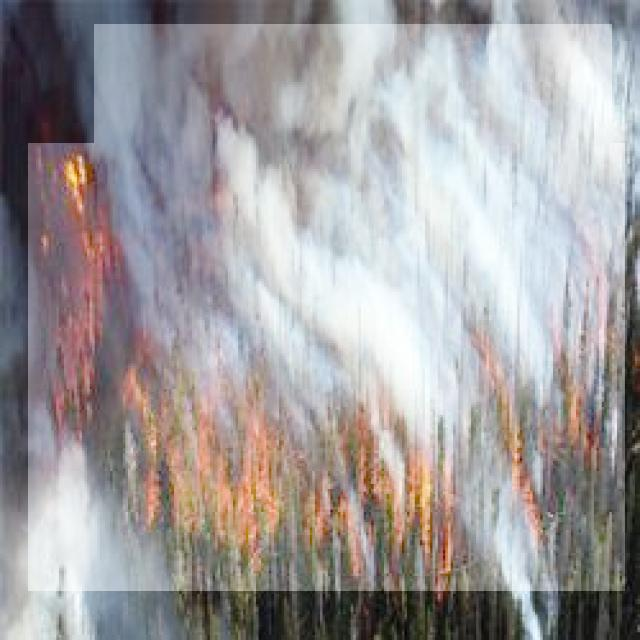Fire: (28, 143, 625, 591)
Smoke: (94, 24, 612, 450)
